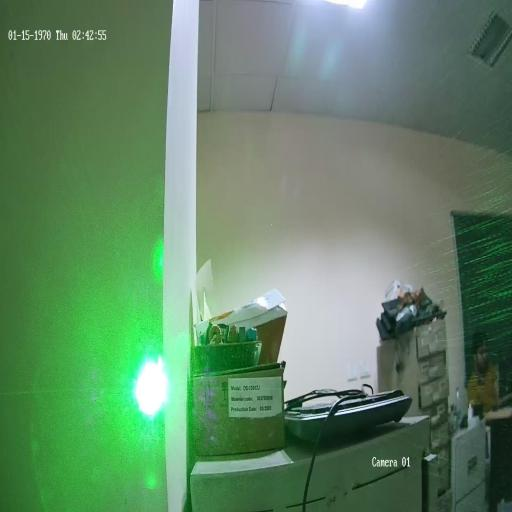laser: (128, 338, 172, 428)
